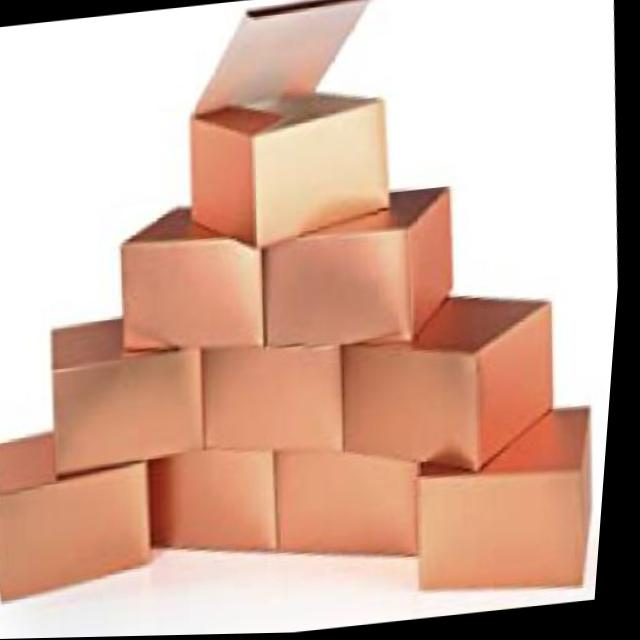box: (166, 0, 423, 273), (329, 278, 584, 494), (401, 386, 617, 616), (256, 174, 476, 355), (31, 286, 226, 483), (255, 416, 443, 619), (0, 422, 177, 613), (104, 196, 282, 382), (143, 417, 303, 609), (202, 340, 351, 465)
